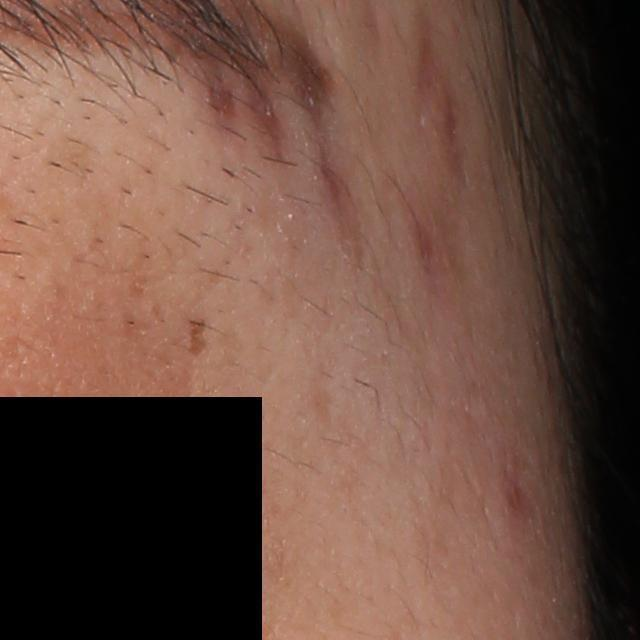atrophic_scar: (298, 60, 347, 204), (245, 62, 294, 164), (203, 49, 240, 126)
melasma: (186, 317, 209, 359)
